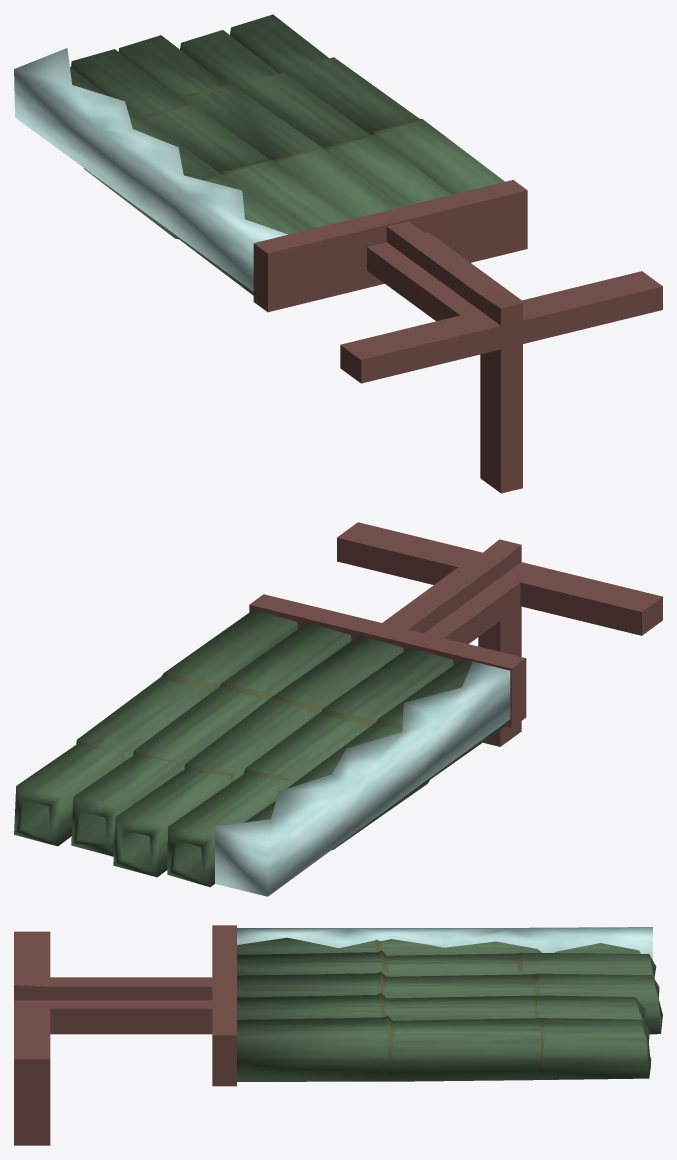
Rendered from bamboo_protectedR_mid_5.glb.
3 views of the same model, one above another, from view 1: azimuth 30°, elevation 25°; view 2: azimuth 150°, elevation 25°; view 3: azimuth 270°, elevation 25° (orthographic). The views are drawn at different scales.
Parts seen in each view (by area): view 1: Obstacle.005, Stand.008; view 2: Obstacle.005, Stand.008; view 3: Obstacle.005, Stand.008.
Boxes of the visible parts, x1=… form: Obstacle.005: x1=14, y1=14, x2=504, y2=295; Stand.008: x1=253, y1=180, x2=662, y2=493; Obstacle.005: x1=14, y1=609, x2=510, y2=896; Stand.008: x1=249, y1=522, x2=662, y2=746; Obstacle.005: x1=237, y1=927, x2=662, y2=1081; Stand.008: x1=14, y1=925, x2=236, y2=1145.
Bounding box in the file's own units: 1.22 × 0.7389 × 2.61.
Materials: 2 (1 with a texture image).
